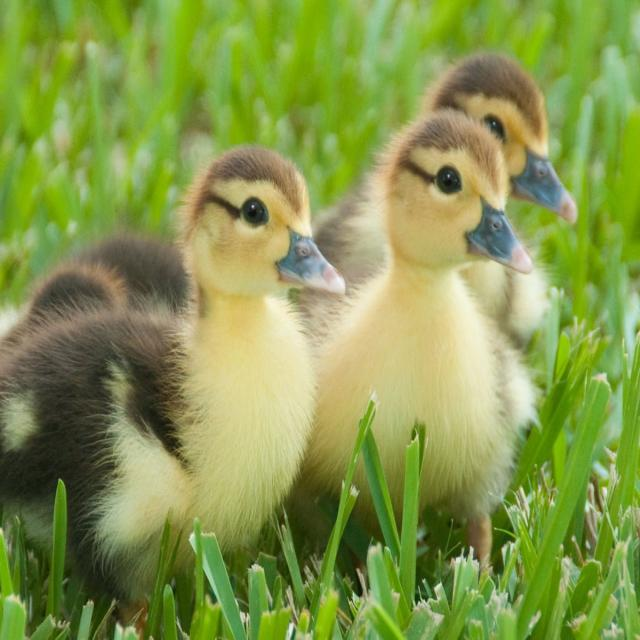Duck: (3, 143, 351, 599)
